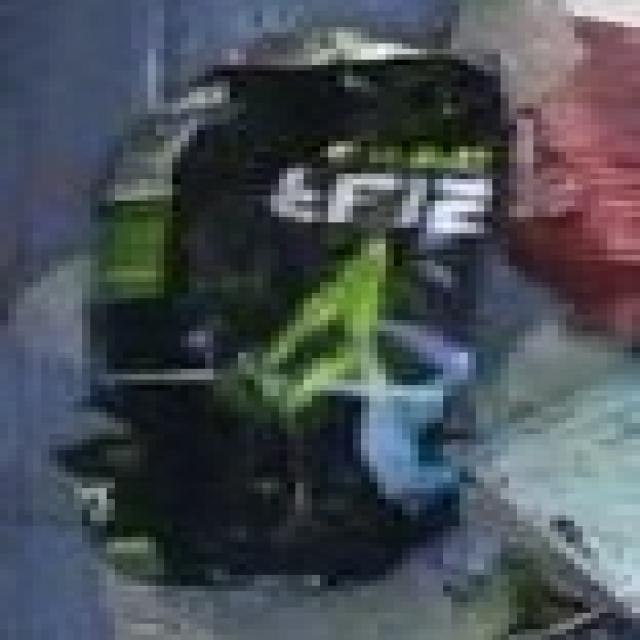can: (28, 6, 551, 602)
